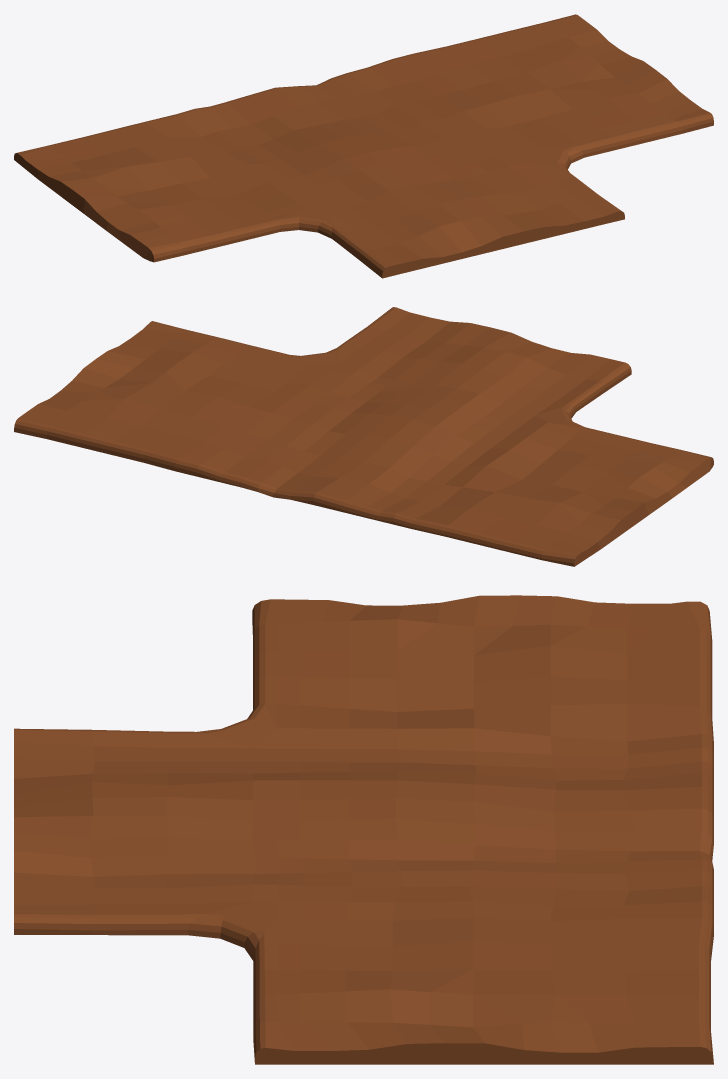
The model's file is GroundTile_3.fbx.
3 views of the same model, one above another, from view 1: azimuth 30°, elevation 25°; view 2: azimuth 150°, elevation 25°; view 3: azimuth 270°, elevation 25° (orthographic). The views are drawn at different scales.
Parts seen in each view (by area): view 1: GroundTile_3; view 2: GroundTile_3; view 3: GroundTile_3.
Part boxes in pixels (bbox=[...]): GroundTile_3: bbox=[14, 14, 713, 278]; GroundTile_3: bbox=[14, 307, 713, 566]; GroundTile_3: bbox=[14, 595, 713, 1064].
Bounding box in the file's own units: 697 × 21.7 × 458.
